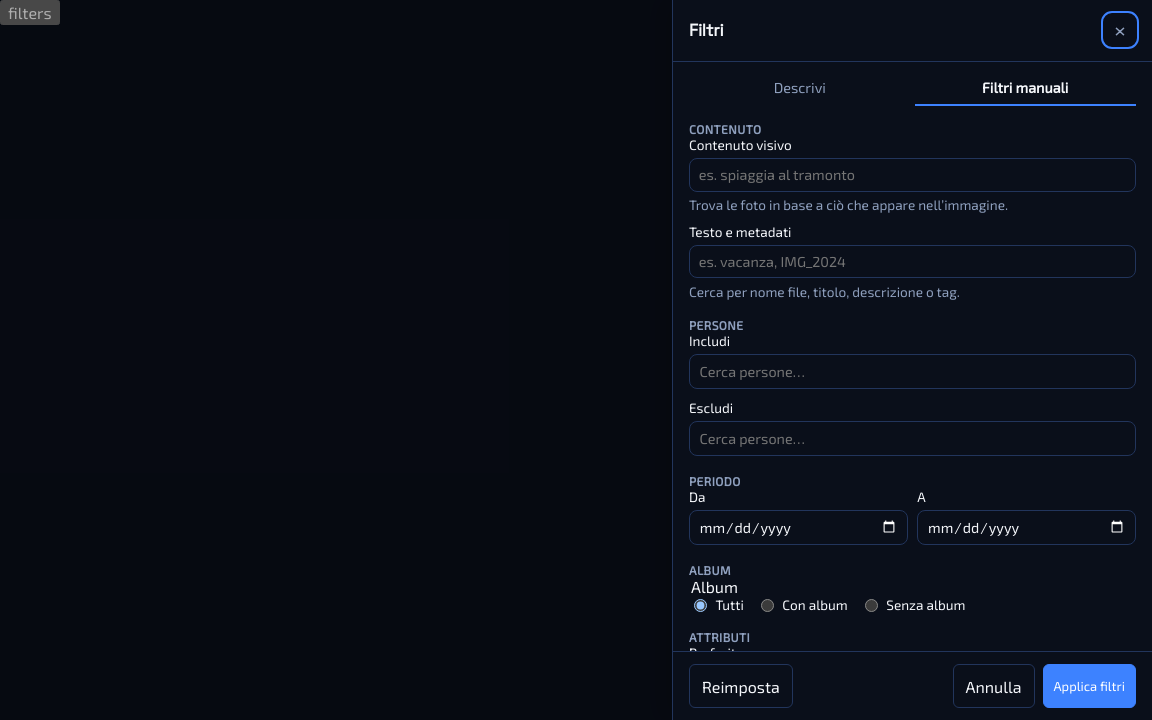
Test: GalleryFilterSheet › an unresolved ambiguity blocks Apply until it is chosen
Check: the dialog with test id "gallery-filter-sheet" is shown, box x1=672 y1=0 x2=1151 y2=719
Click the tab with test id "ws-tab-describe".
click(800, 89)  # box x1=689 y1=71 x2=910 y2=106
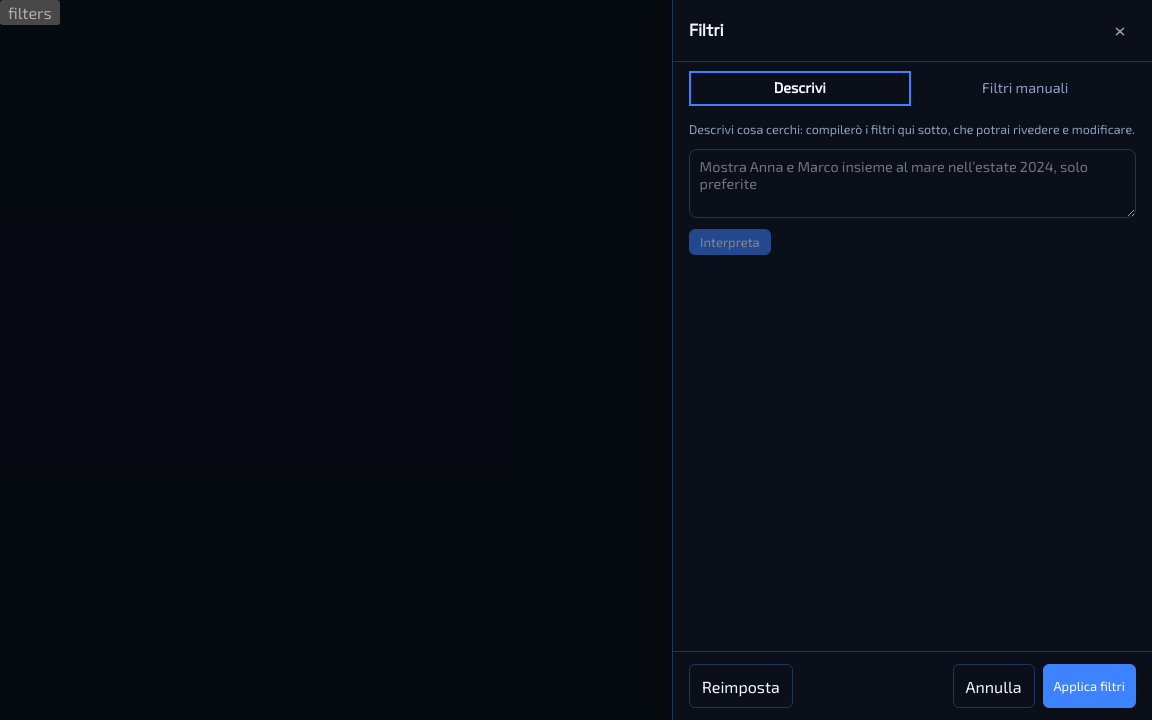
Type "photos of Anna" into the text box with test id "ws-describe-input".
click(912, 183); type("photos of Anna")  # box x1=689 y1=149 x2=1136 y2=218
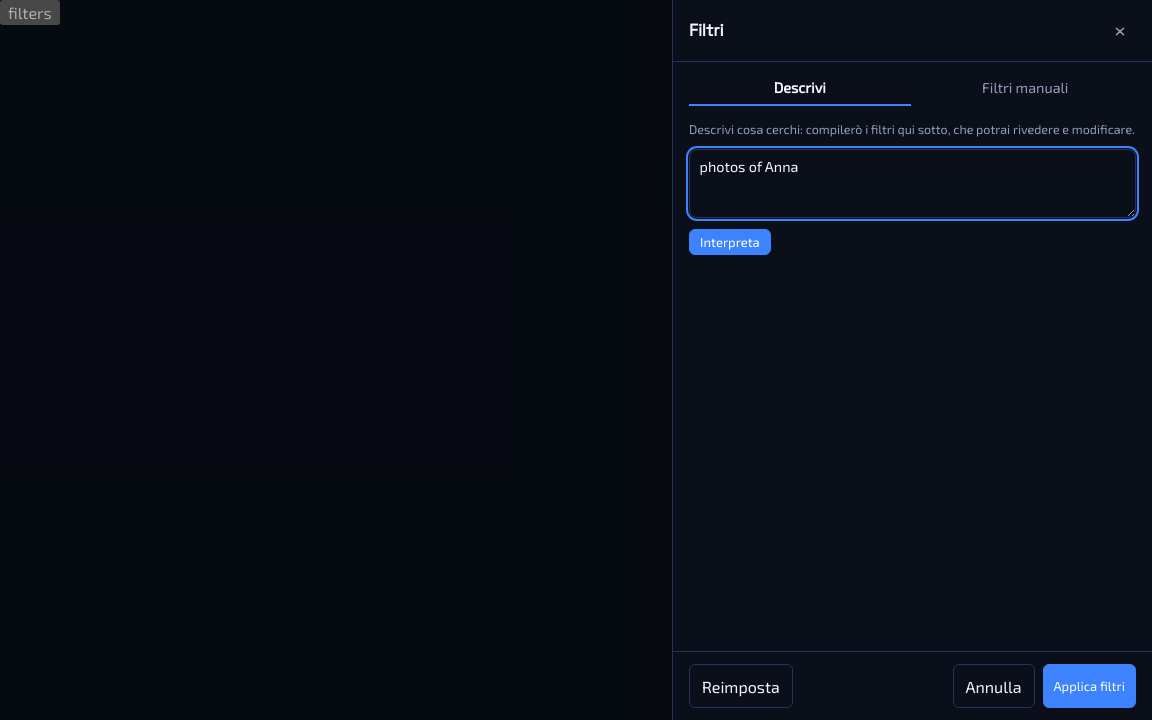
Click the button with test id "ws-describe-run".
click(730, 242)  # box x1=689 y1=229 x2=771 y2=255
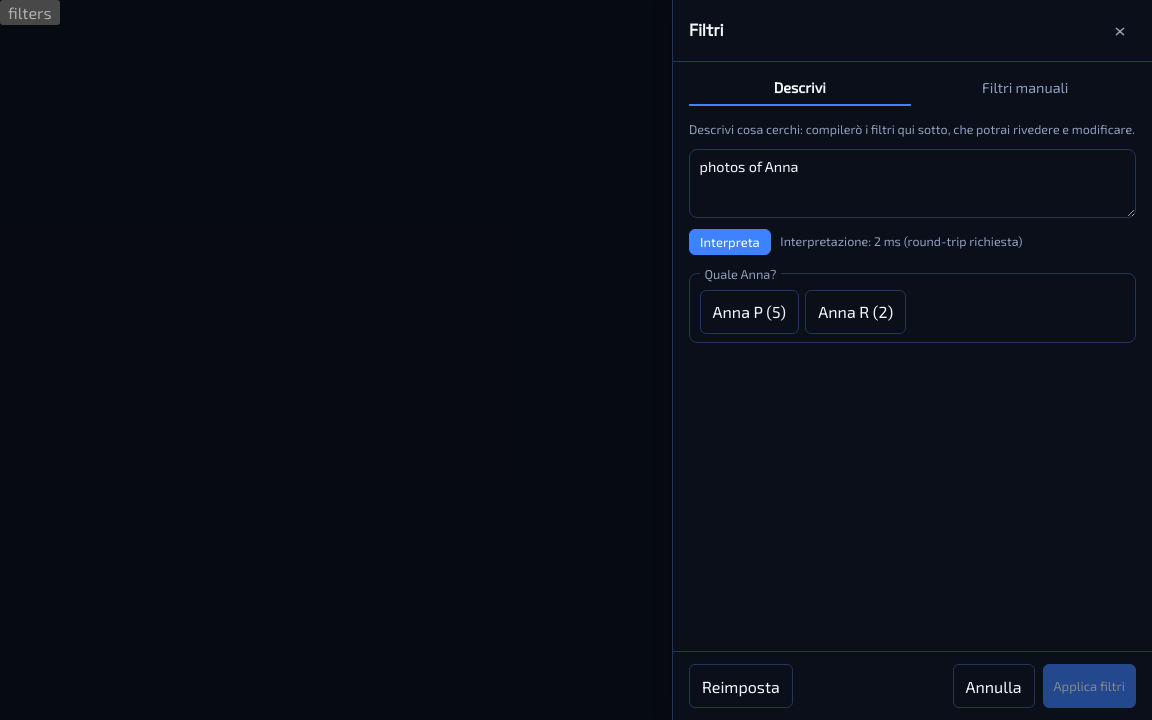
Check: the element with test id "ws-ambiguities" is shown, box x1=689 y1=266 x2=1136 y2=343
Check: the button with test id "ws-apply" is disabled, box x1=1042 y1=664 x2=1136 y2=708
Click the button "Anna P (5)".
click(749, 312)  # box x1=700 y1=290 x2=799 y2=334
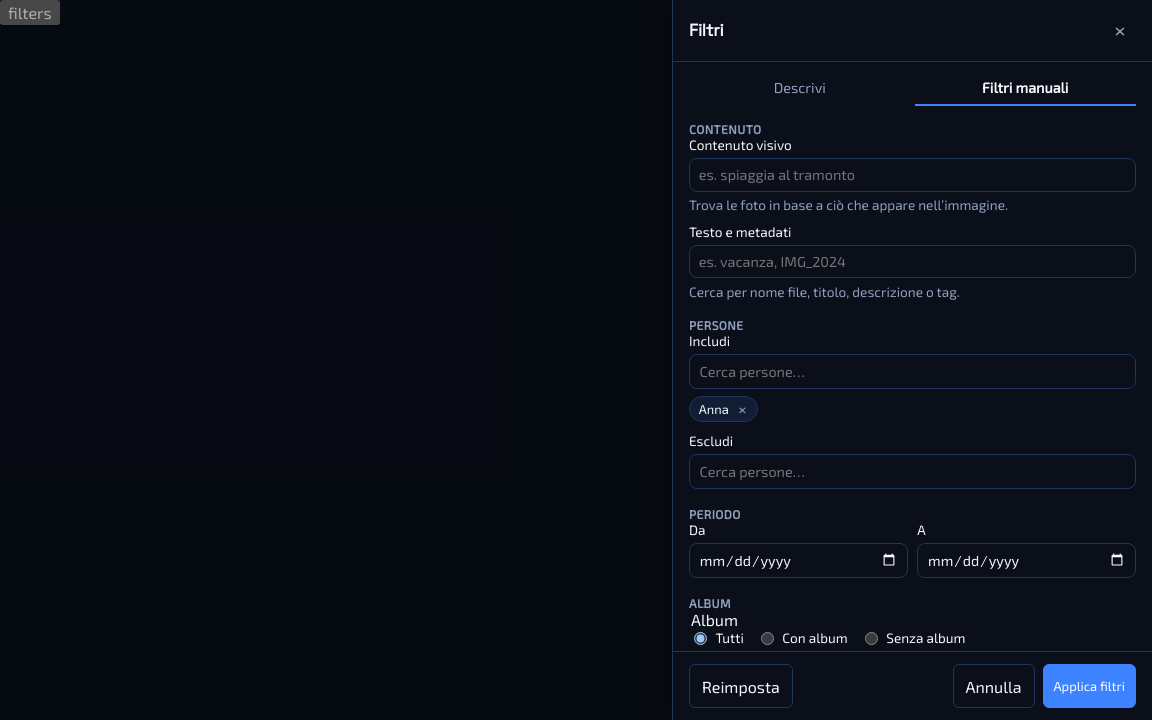
Check: the button with test id "ws-apply" is enabled, box x1=1042 y1=664 x2=1136 y2=708
